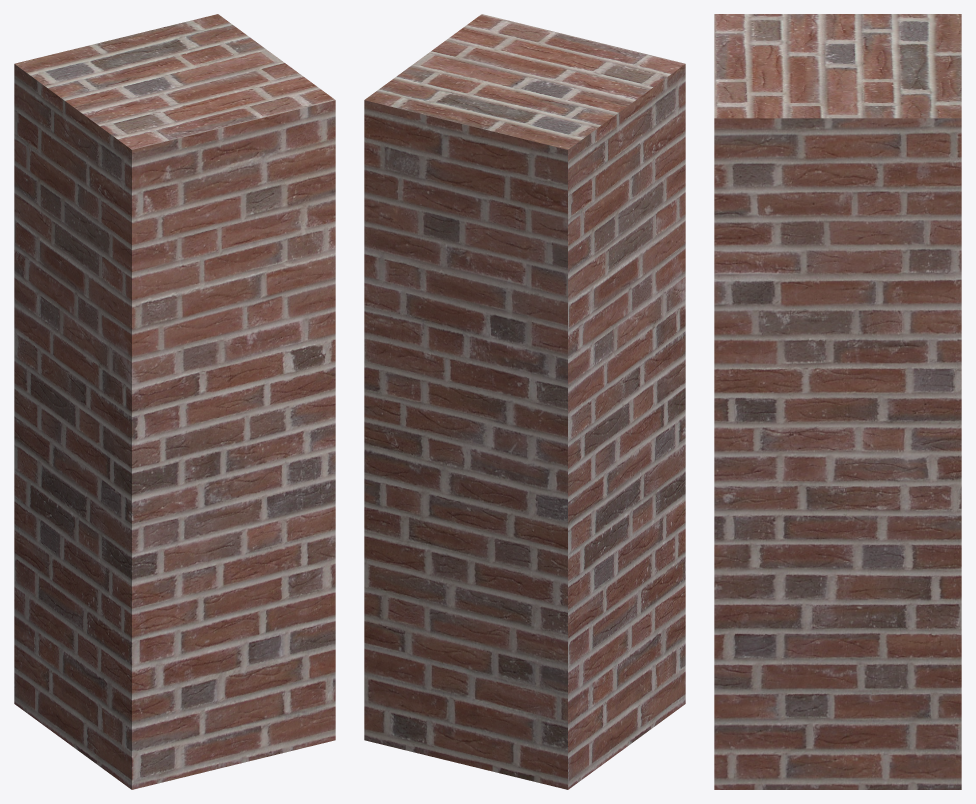
The model's file is brickBlockWall.fbx.
3 renders of one model, left to right at view 1: azimuth 30°, elevation 25°; view 2: azimuth 150°, elevation 25°; view 3: azimuth 270°, elevation 25°, orthographic. The views are drawn at different scales.
Visible parts, largest first — view 1: wall_1; view 2: wall_1; view 3: wall_1.
Boxes of the visible parts, x1,y1,x2,y2 form: wall_1: (14, 14, 335, 789); wall_1: (364, 14, 685, 789); wall_1: (714, 14, 961, 789).
Size of the model in its own units: 1 by 3 by 1.
